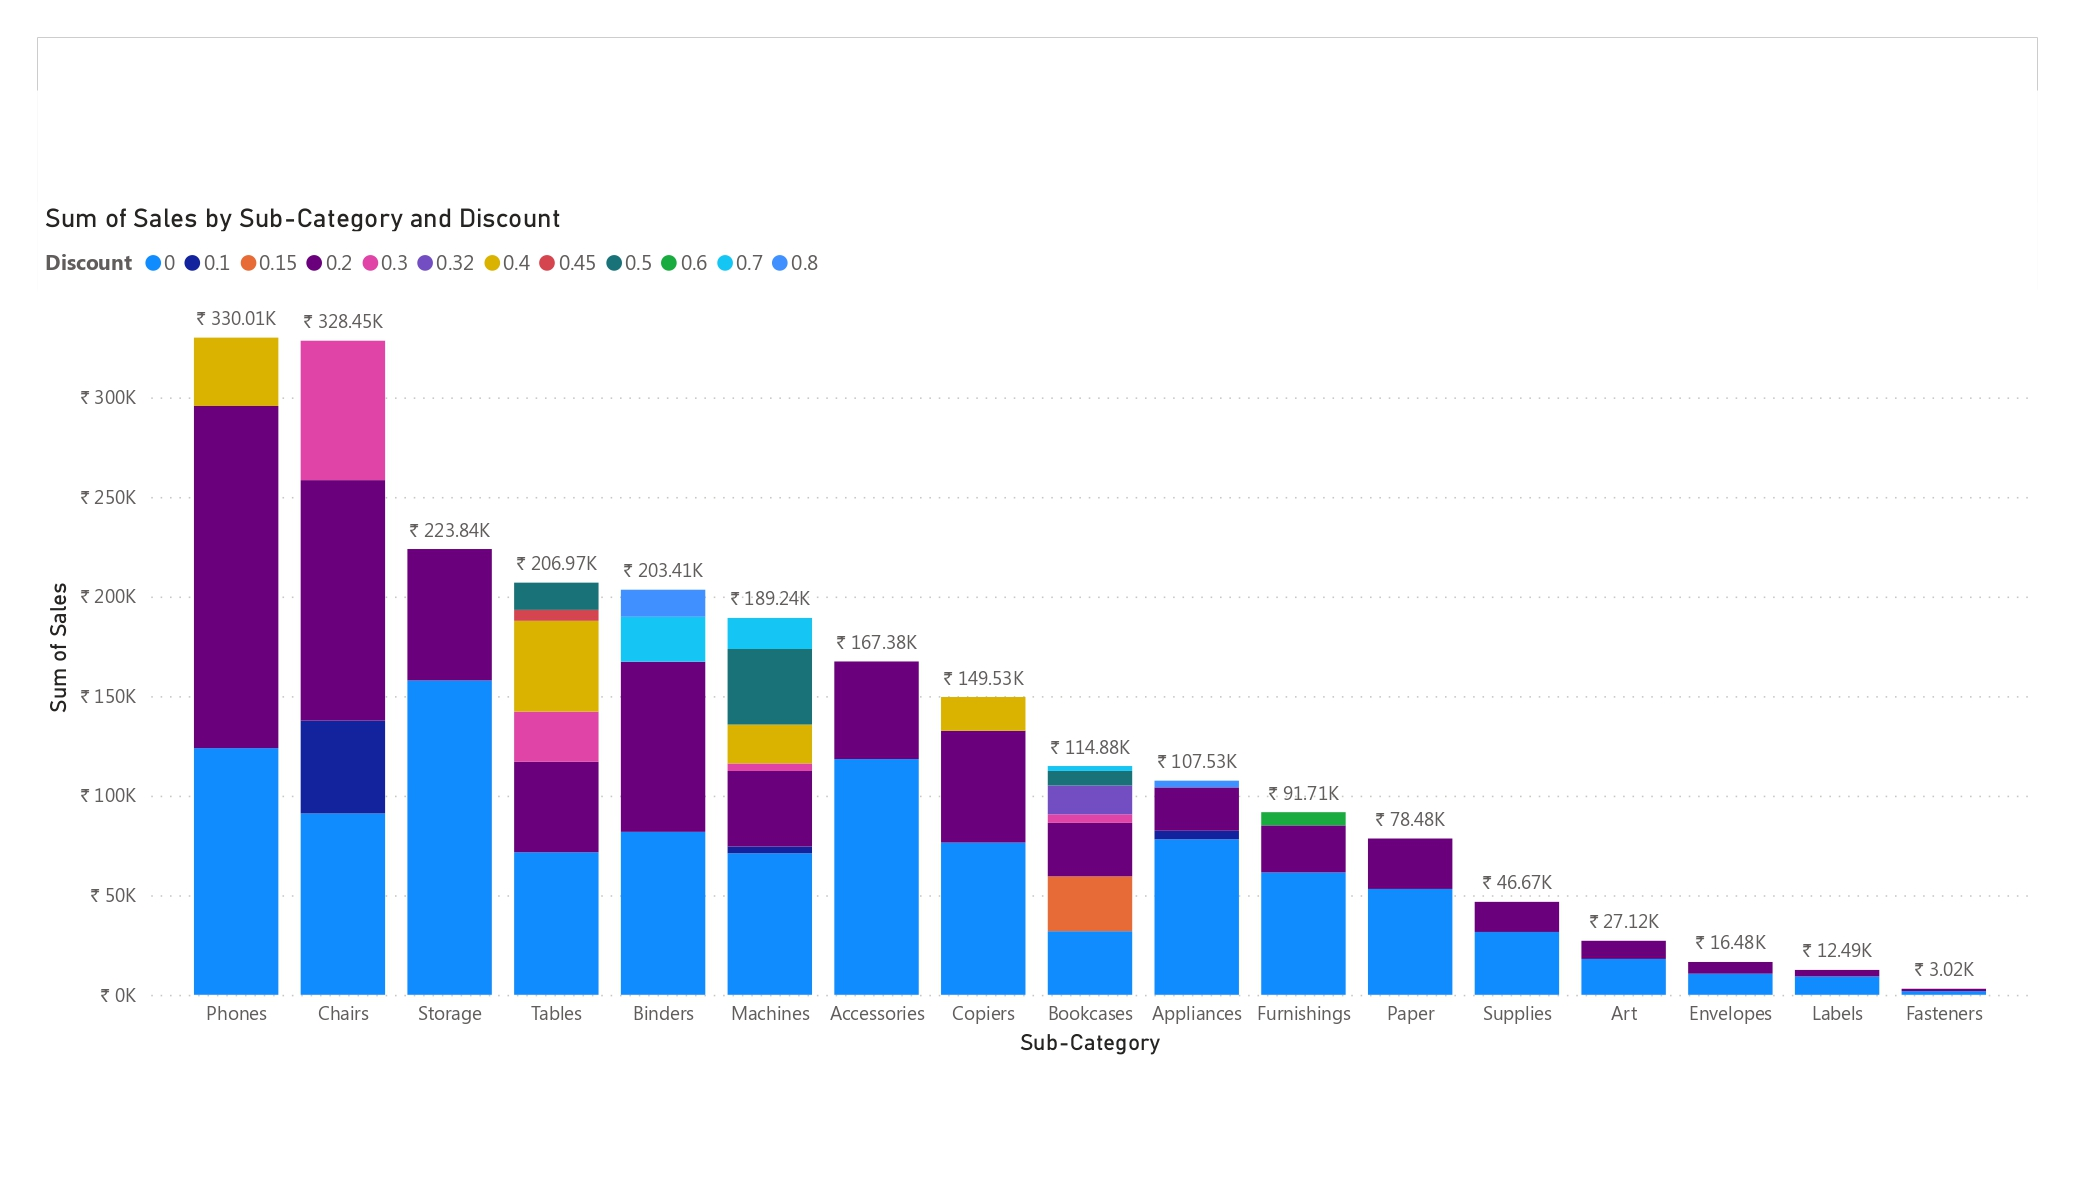

What the dashboard file says about the page in this screenshot:
{"tool":"powerbi","page":{"name":"Page 6","canvas":[1280,720],"ordinal":5},"visuals":[{"type":"columnChart","fields":{"Y":["Sum(Orders.Sales)"],"Category":["Orders.Sub-Category"],"Series":["Orders.Discount"]},"box":[0,105.5,1280,550.9],"z":0}]}

Visuals, with their boxes on the page's 1280x720 design canvas (x1, y1, x2, y2). These are canvas units, not pixel positions in the 2075x1200 screenshot, which may show the page scaled, cropped or inside an application window:
columnChart - Sum(Orders.Sales) x Orders.Sub-Category: 0, 106, 1280, 656
